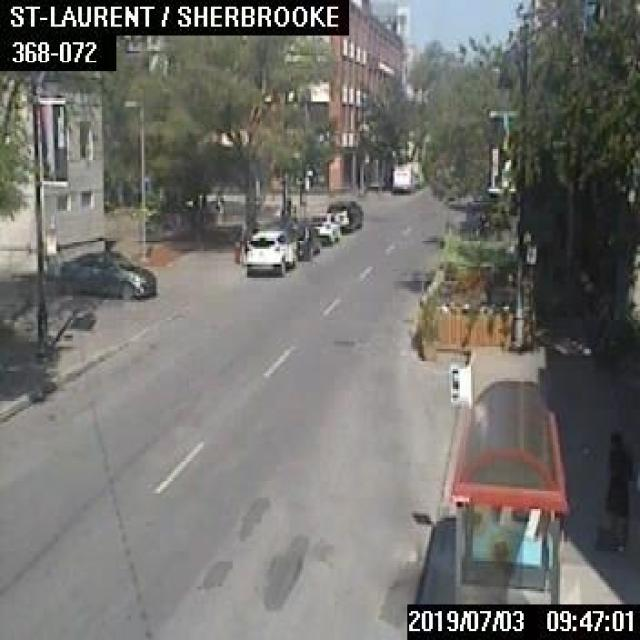pedestrian: (604, 431, 632, 549), (229, 222, 242, 262), (282, 193, 291, 218)
vehicle: (58, 250, 155, 298), (240, 228, 294, 276), (324, 198, 362, 230), (287, 222, 319, 258), (389, 158, 422, 191), (308, 211, 340, 243)
